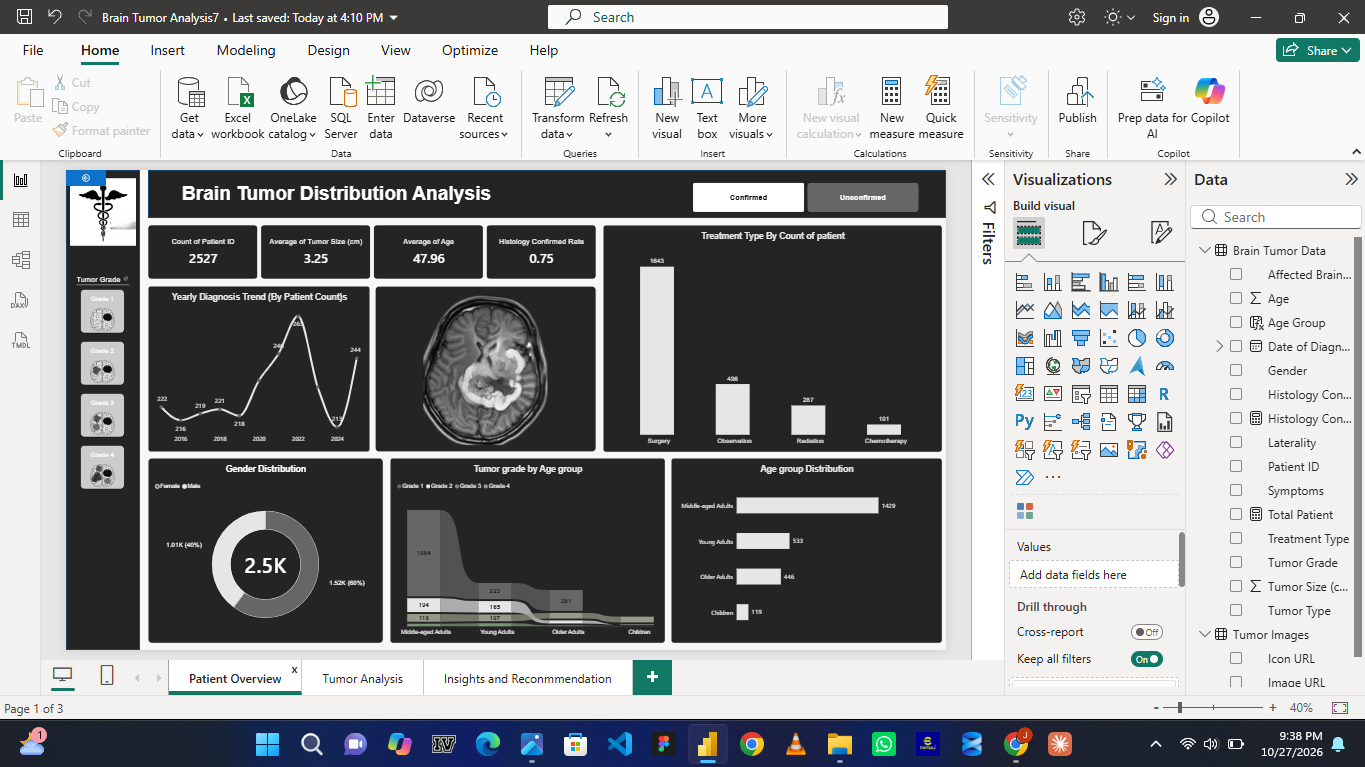

What the dashboard file says about the page in this screenshot:
{"tool":"powerbi","page":{"name":"Patient Overview","canvas":[2200,1200],"ordinal":0},"visuals":[{"type":"shape","box":[0,0,185,1200],"z":0},{"type":"ChicletSlicer1448559807354","fields":{"Category":["Tumor Images.Tumor Grade"],"Image":["Tumor Images.Icon URL"]},"box":[10,250,164,598],"z":1000},{"type":"shape","box":[205,0,1995,120],"z":2000},{"type":"textbox","box":[270,30,812.5,57.5],"z":3000},{"type":"cardVisual","fields":{"Data":["Count(Brain Tumor Data.Patient ID)","Avg(Brain Tumor Data.Tumor Size (cm))","Avg(Brain Tumor Data.Age)","Brain Tumor Data.Histology Confirmation Rate"]},"box":[205,137.5,1120,135],"z":4000},{"type":"image","box":[772.5,290,552.5,415],"z":5000},{"type":"donutChart","title":"Gender Distribution","fields":{"Category":["Brain Tumor Data.Gender"],"Y":["Count(Brain Tumor Data.Patient ID)"]},"box":[205,720,587.5,462.5],"z":6000},{"type":"lineChart","title":"Yearly Diagnosis Trend (By Patient Count)s","fields":{"Category":["Brain Tumor Data.Date of Diagnosis.Variation.Date Hierarchy.Year"],"Y":["CountNonNull(Brain Tumor Data.Patient ID)"]},"box":[205,290,555,415],"z":7000},{"type":"barChart","title":"Age group Distribution","fields":{"Category":["Brain Tumor Data.Age Group"],"Y":["CountNonNull(Brain Tumor Data.Patient ID)"]},"box":[1512.5,720,677.5,462.5],"z":8000},{"type":"ribbonChart","title":"Tumor grade by Age group","fields":{"Category":["Brain Tumor Data.Age Group"],"Series":["Brain Tumor Data.Tumor Grade"],"Y":["CountNonNull(Brain Tumor Data.Patient ID)"]},"box":[810,720,687.5,462.5],"z":9000},{"type":"advancedSlicerVisual","fields":{"Values":["Brain Tumor Data.Histology Confirmation"]},"box":[1567.5,0,565,105],"z":11000},{"type":"image","box":[10,17.5,165,175],"z":12000},{"type":"actionButton","box":[0,0,100,40],"z":12001},{"type":"columnChart","title":"Treatment Type By Count of patient","fields":{"Category":["Brain Tumor Data.Treatment Type"],"Y":["CountNonNull(Brain Tumor Data.Patient ID)"]},"box":[1342.5,137.5,847.5,567.5],"z":12002}]}

Visuals, with their boxes on the page's 2200x1200 design canvas (x1, y1, x2, y2). These are canvas units, not pixel positions in the 1365x767 screenshot, which may show the page scaled, cropped or inside an application window:
shape: bbox(0, 0, 185, 1200)
ChicletSlicer1448559807354 - Tumor Images.Tumor Grade x Tumor Images.Icon URL: bbox(10, 250, 174, 848)
shape: bbox(205, 0, 2200, 120)
textbox: bbox(270, 30, 1082, 88)
cardVisual - Count(Brain Tumor Data.Patient ID) x Avg(Brain Tumor Data.Tumor Size (cm)): bbox(205, 138, 1325, 272)
image: bbox(772, 290, 1325, 705)
"Gender Distribution" donutChart: bbox(205, 720, 792, 1182)
"Yearly Diagnosis Trend (By Patient Count)s" lineChart: bbox(205, 290, 760, 705)
"Age group Distribution" barChart: bbox(1512, 720, 2190, 1182)
"Tumor grade by Age group" ribbonChart: bbox(810, 720, 1498, 1182)
advancedSlicerVisual - Brain Tumor Data.Histology Confirmation: bbox(1568, 0, 2132, 105)
image: bbox(10, 18, 175, 192)
actionButton: bbox(0, 0, 100, 40)
"Treatment Type By Count of patient" columnChart: bbox(1342, 138, 2190, 705)
